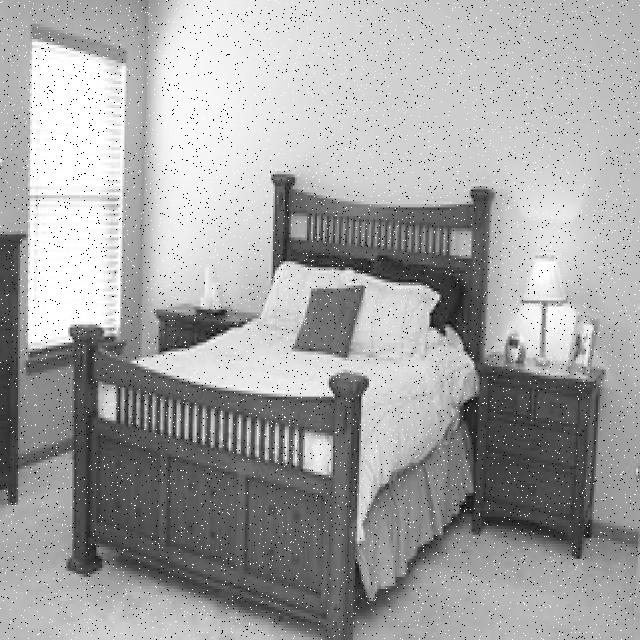bed: (95, 260, 478, 600)
